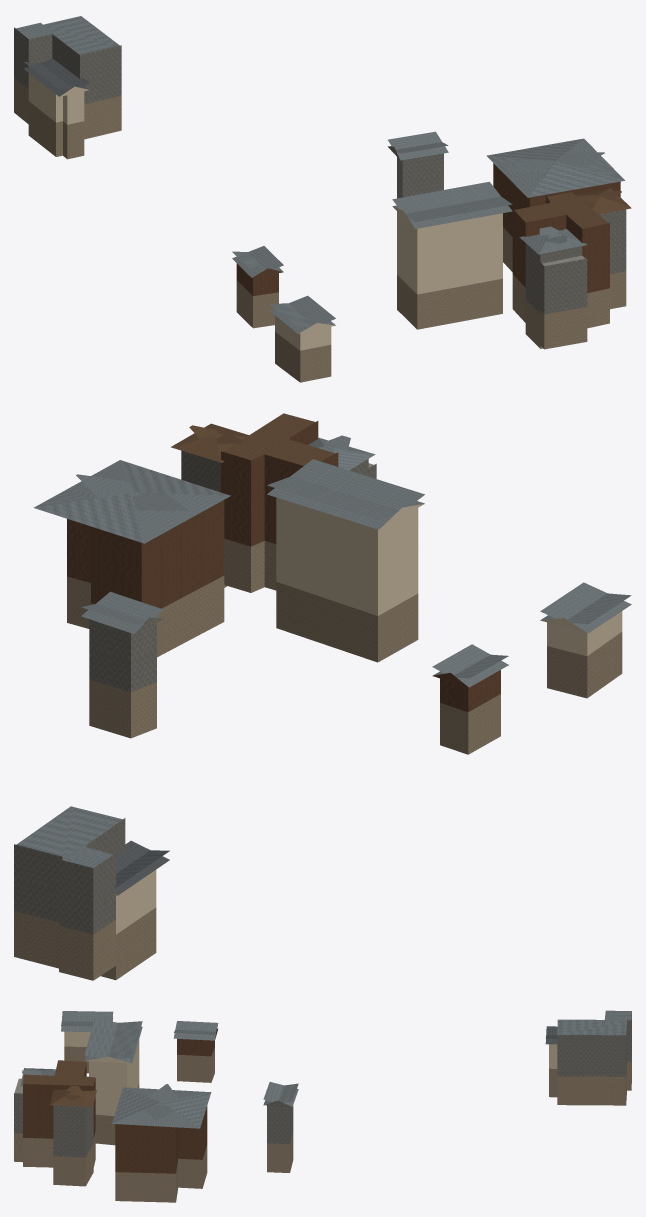
File: bld_c33_-39_447.gltf
The picture shows the model from 3 angles, top to bottom: view 1: azimuth 30°, elevation 25°; view 2: azimuth 150°, elevation 25°; view 3: azimuth 270°, elevation 25°; orthographic projection. The views are drawn at different scales.
Parts seen in each view (by area): view 1: bld_c33_-39_447; view 2: bld_c33_-39_447; view 3: bld_c33_-39_447.
Boxes of the visible parts, x1,y1,x2,y2 form: bld_c33_-39_447: (14, 16, 631, 382); bld_c33_-39_447: (14, 413, 631, 980); bld_c33_-39_447: (14, 1010, 631, 1202).
Size of the model in its own units: 56.11 by 17.7 by 98.69.
11 materials, 11 textured.
